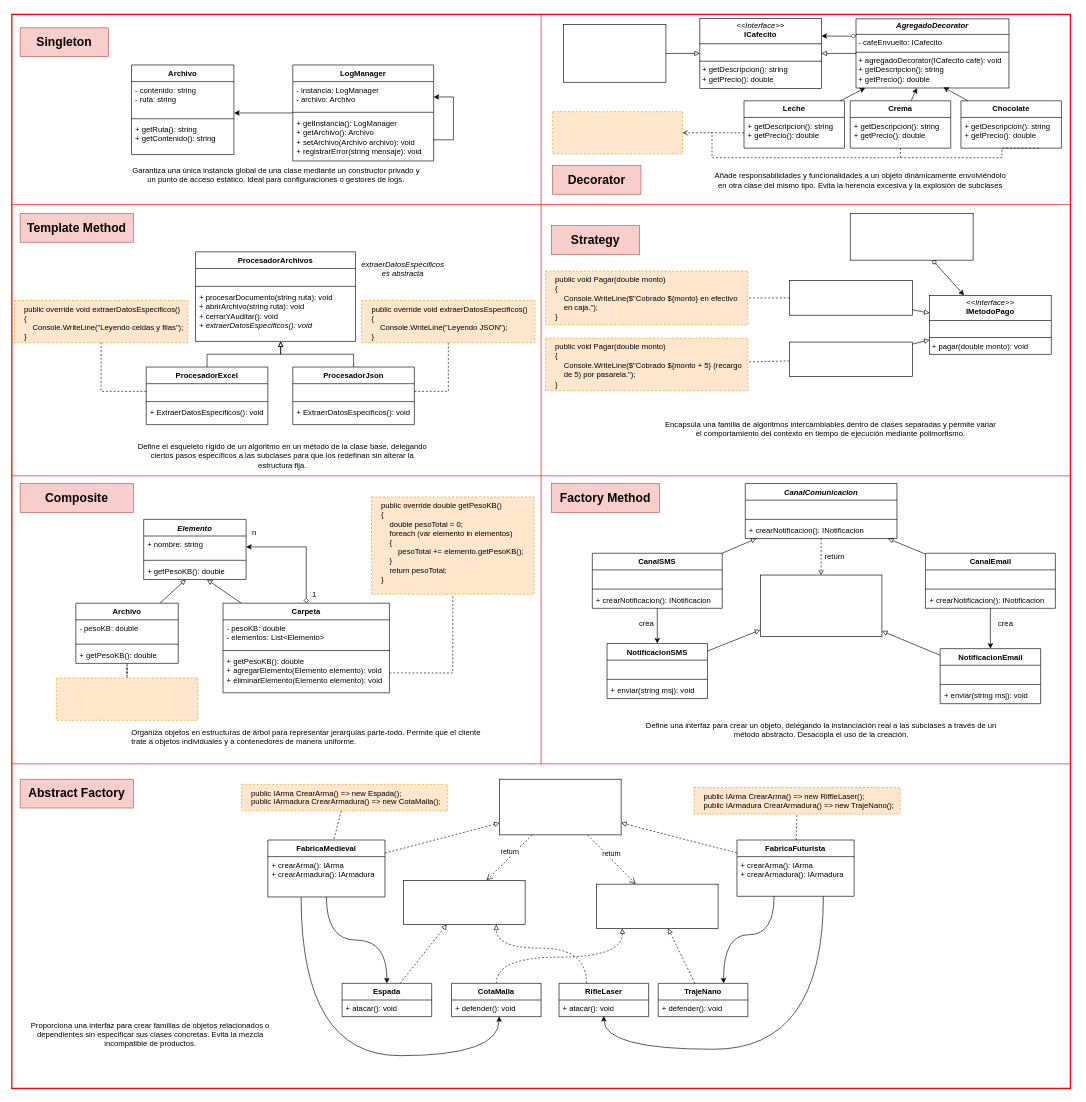
Image size: 1086x1102. Some labels were removed from this diagram. The shapes that lost their labels are listed below. From the top down, each one's centre as x and y in pixels, then its label:
point 614,53: CafeBase + getDescripcion(): string + getPrecio(): double
point 617,132: public override double GetPrecio() { base.GetPrecio() + 35.0; }
point 911,236: ProcesadorVenta - estrategiaPago: IMetodoPago
point 850,297: PagoEfectivo + pagar(double monto): void
point 850,359: PagoTarjeta + pagar(double monto): void
point 821,605: <<Interface>> INotificacion + enviar(string msj): void
point 127,698: public override double getPesoKB() { return pesoKB; }
point 560,807: <<Interface>> IFabrica + crearArma(): IArna + crearArmadura(): IArmadura
point 464,902: <<Interface>> IArma + atacar(): void
point 657,906: <<Interface>> IArmadura + defender(): void
